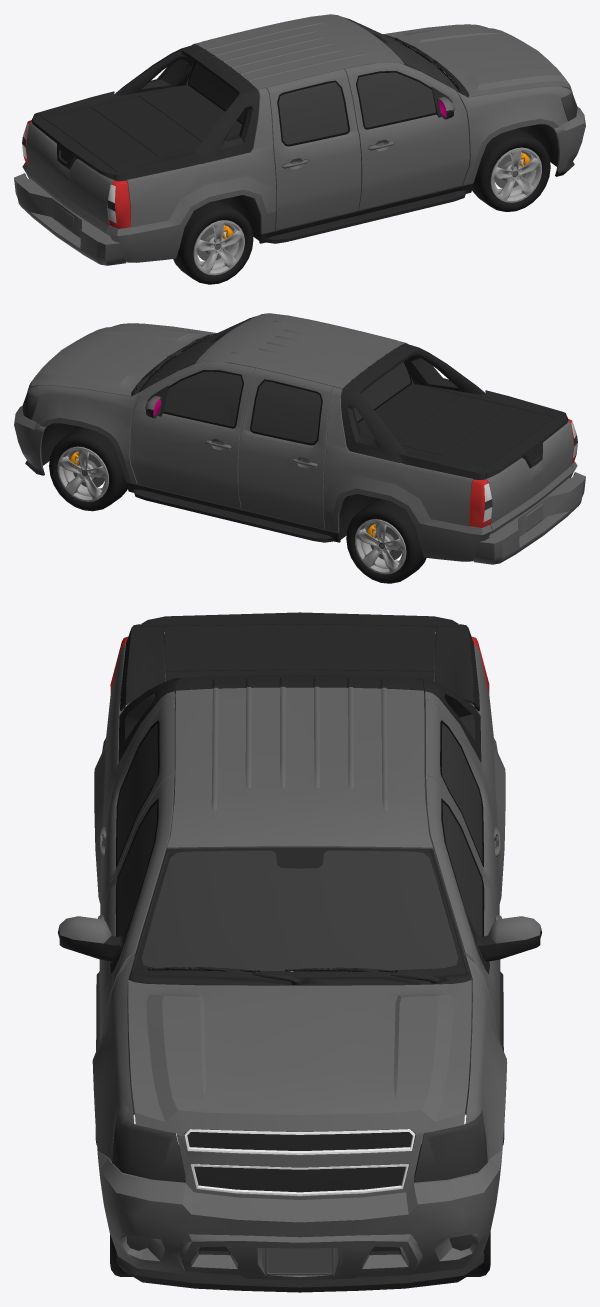
The model's file is sedan004.fbx.
3 renders of one model, top to bottom at view 1: azimuth 30°, elevation 25°; view 2: azimuth 150°, elevation 25°; view 3: azimuth 270°, elevation 25°, orthographic. The views are drawn at different scales.
Parts seen in each view (by area): view 1: jiaoche004; view 2: jiaoche004; view 3: jiaoche004.
Part boxes in pixels (x1=…): jiaoche004: x1=14, y1=14, x2=585, y2=284; jiaoche004: x1=14, y1=313, x2=585, y2=583; jiaoche004: x1=58, y1=612, x2=541, y2=1292.
Bounding box in the file's own units: 5.99 × 1.98 × 2.5.
